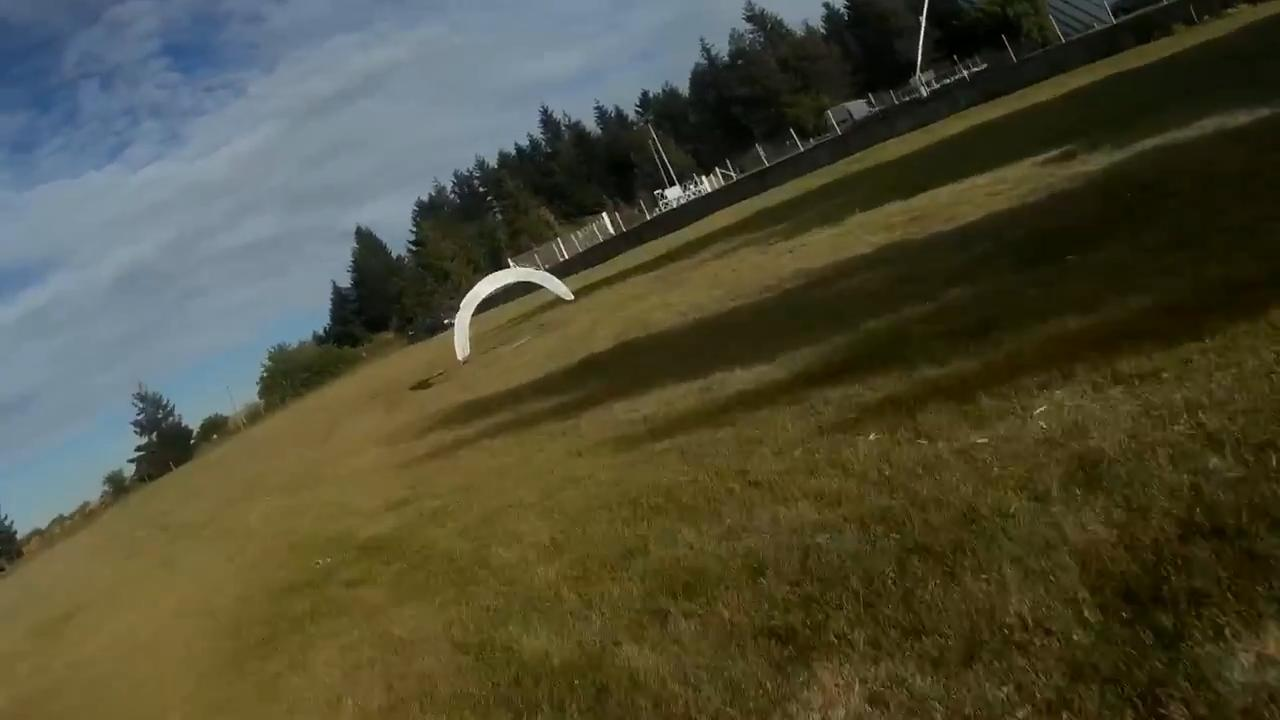gate: (452, 266, 575, 364)
